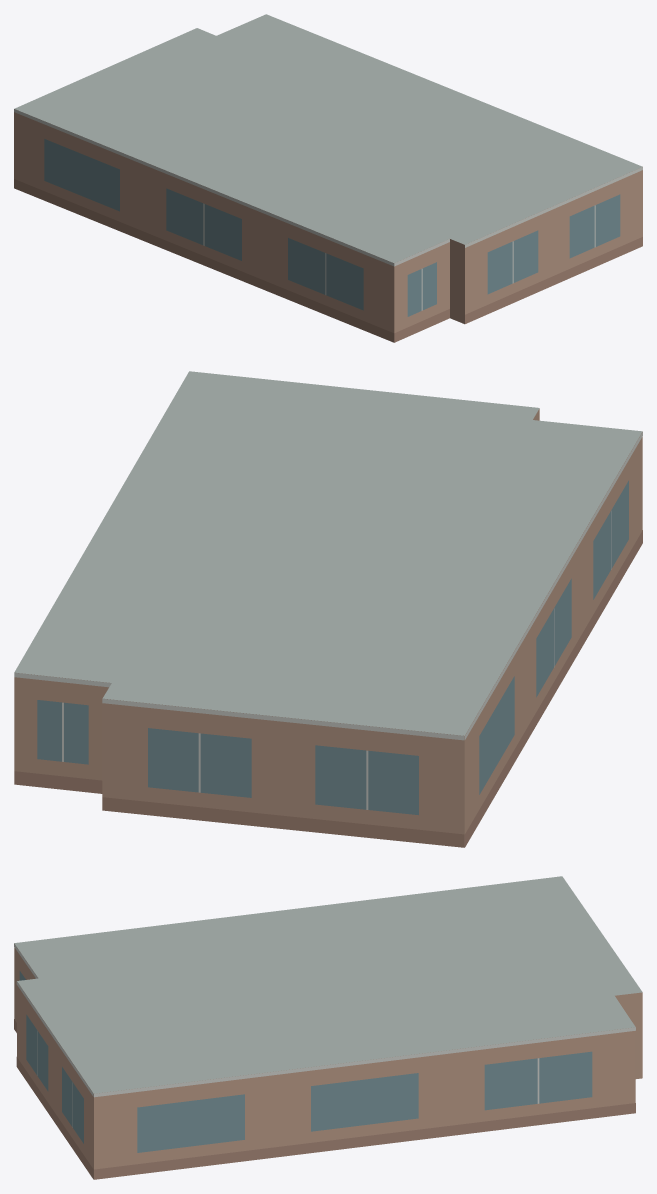
The model's file is survey-upis-32958276.glb.
3 views of the same model, one above another, from view 1: azimuth 30°, elevation 25°; view 2: azimuth 150°, elevation 25°; view 3: azimuth 270°, elevation 25° (orthographic). The views are drawn at different scales.
Parts seen in each view (by area): view 1: survey-upis-32958276.tmp; view 2: survey-upis-32958276.tmp; view 3: survey-upis-32958276.tmp.
Part boxes in pixels (<box>): survey-upis-32958276.tmp: <box>14,14,642,342</box>; survey-upis-32958276.tmp: <box>14,371,642,847</box>; survey-upis-32958276.tmp: <box>14,876,642,1179</box>.
Bounding box in the file's own units: 16.57 × 3.05 × 20.22.
